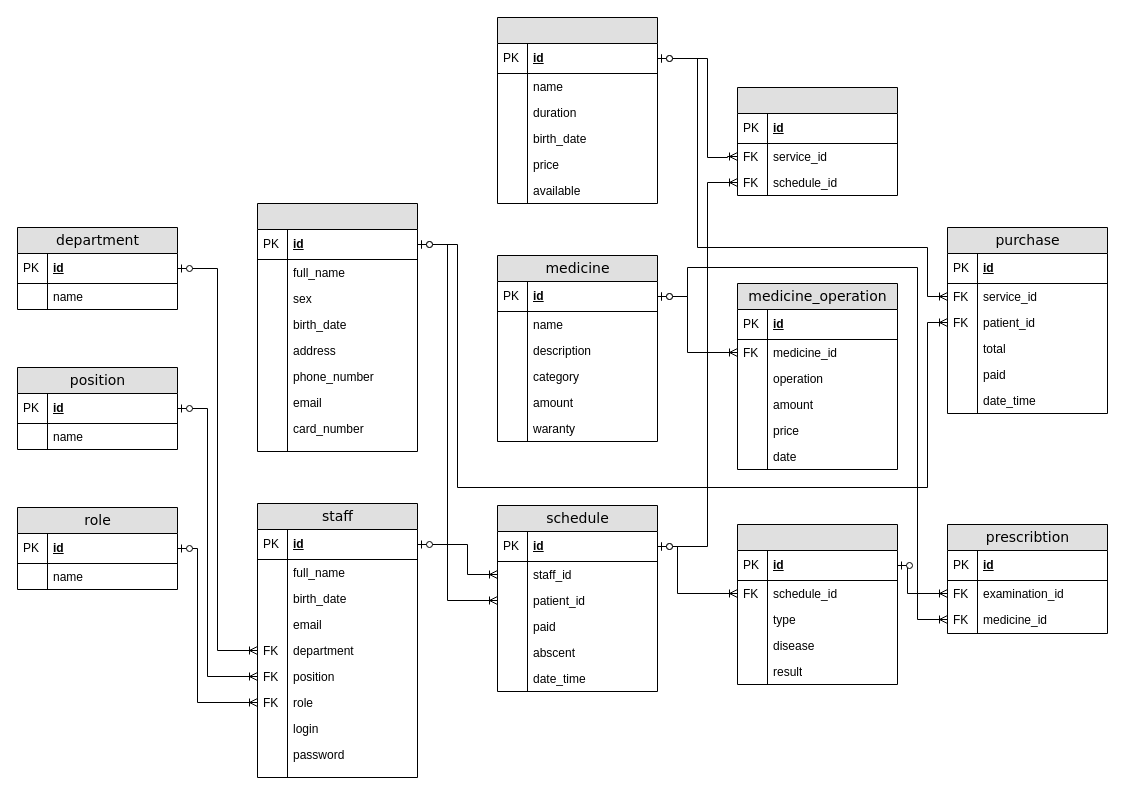
Image size: 1125x795. Some labels were removed from this diagram. Each missing label, with the box of its shape:
examination: (736, 524, 898, 684)
patient: (256, 202, 418, 452)
provided_service: (736, 86, 898, 196)
service: (496, 16, 658, 204)
